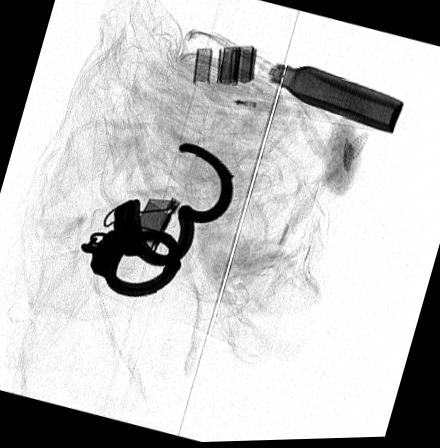HandCuffs: (77, 141, 233, 298)
